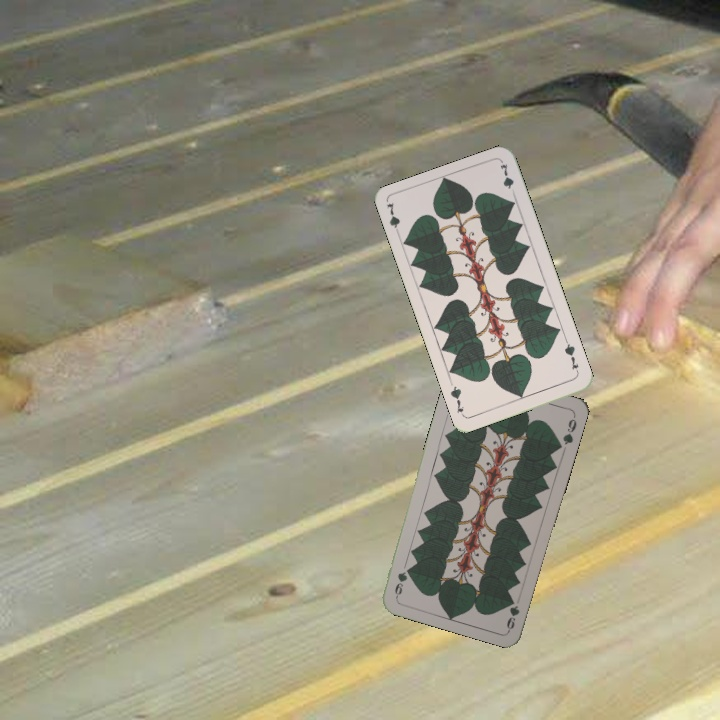G7: (382, 199, 403, 240), (560, 337, 582, 376)
G9: (502, 595, 522, 632)
